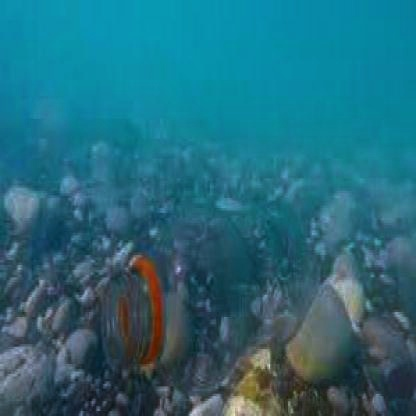pbottle: (92, 186, 331, 384)
